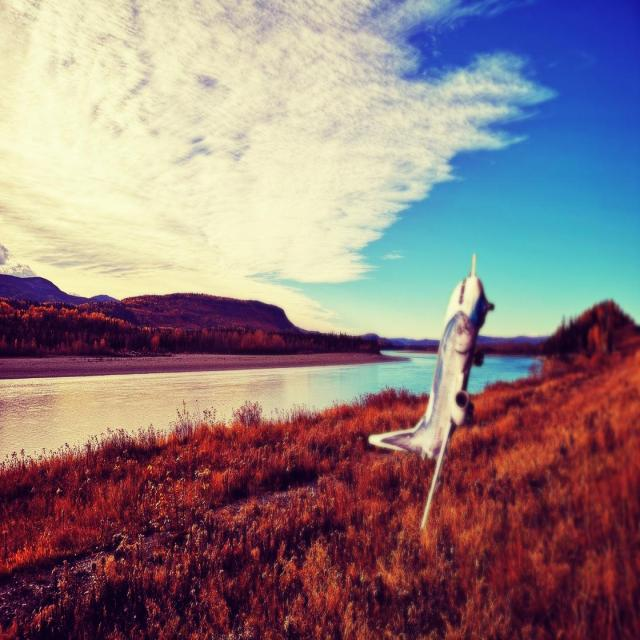airplane: (367, 252, 495, 530)
